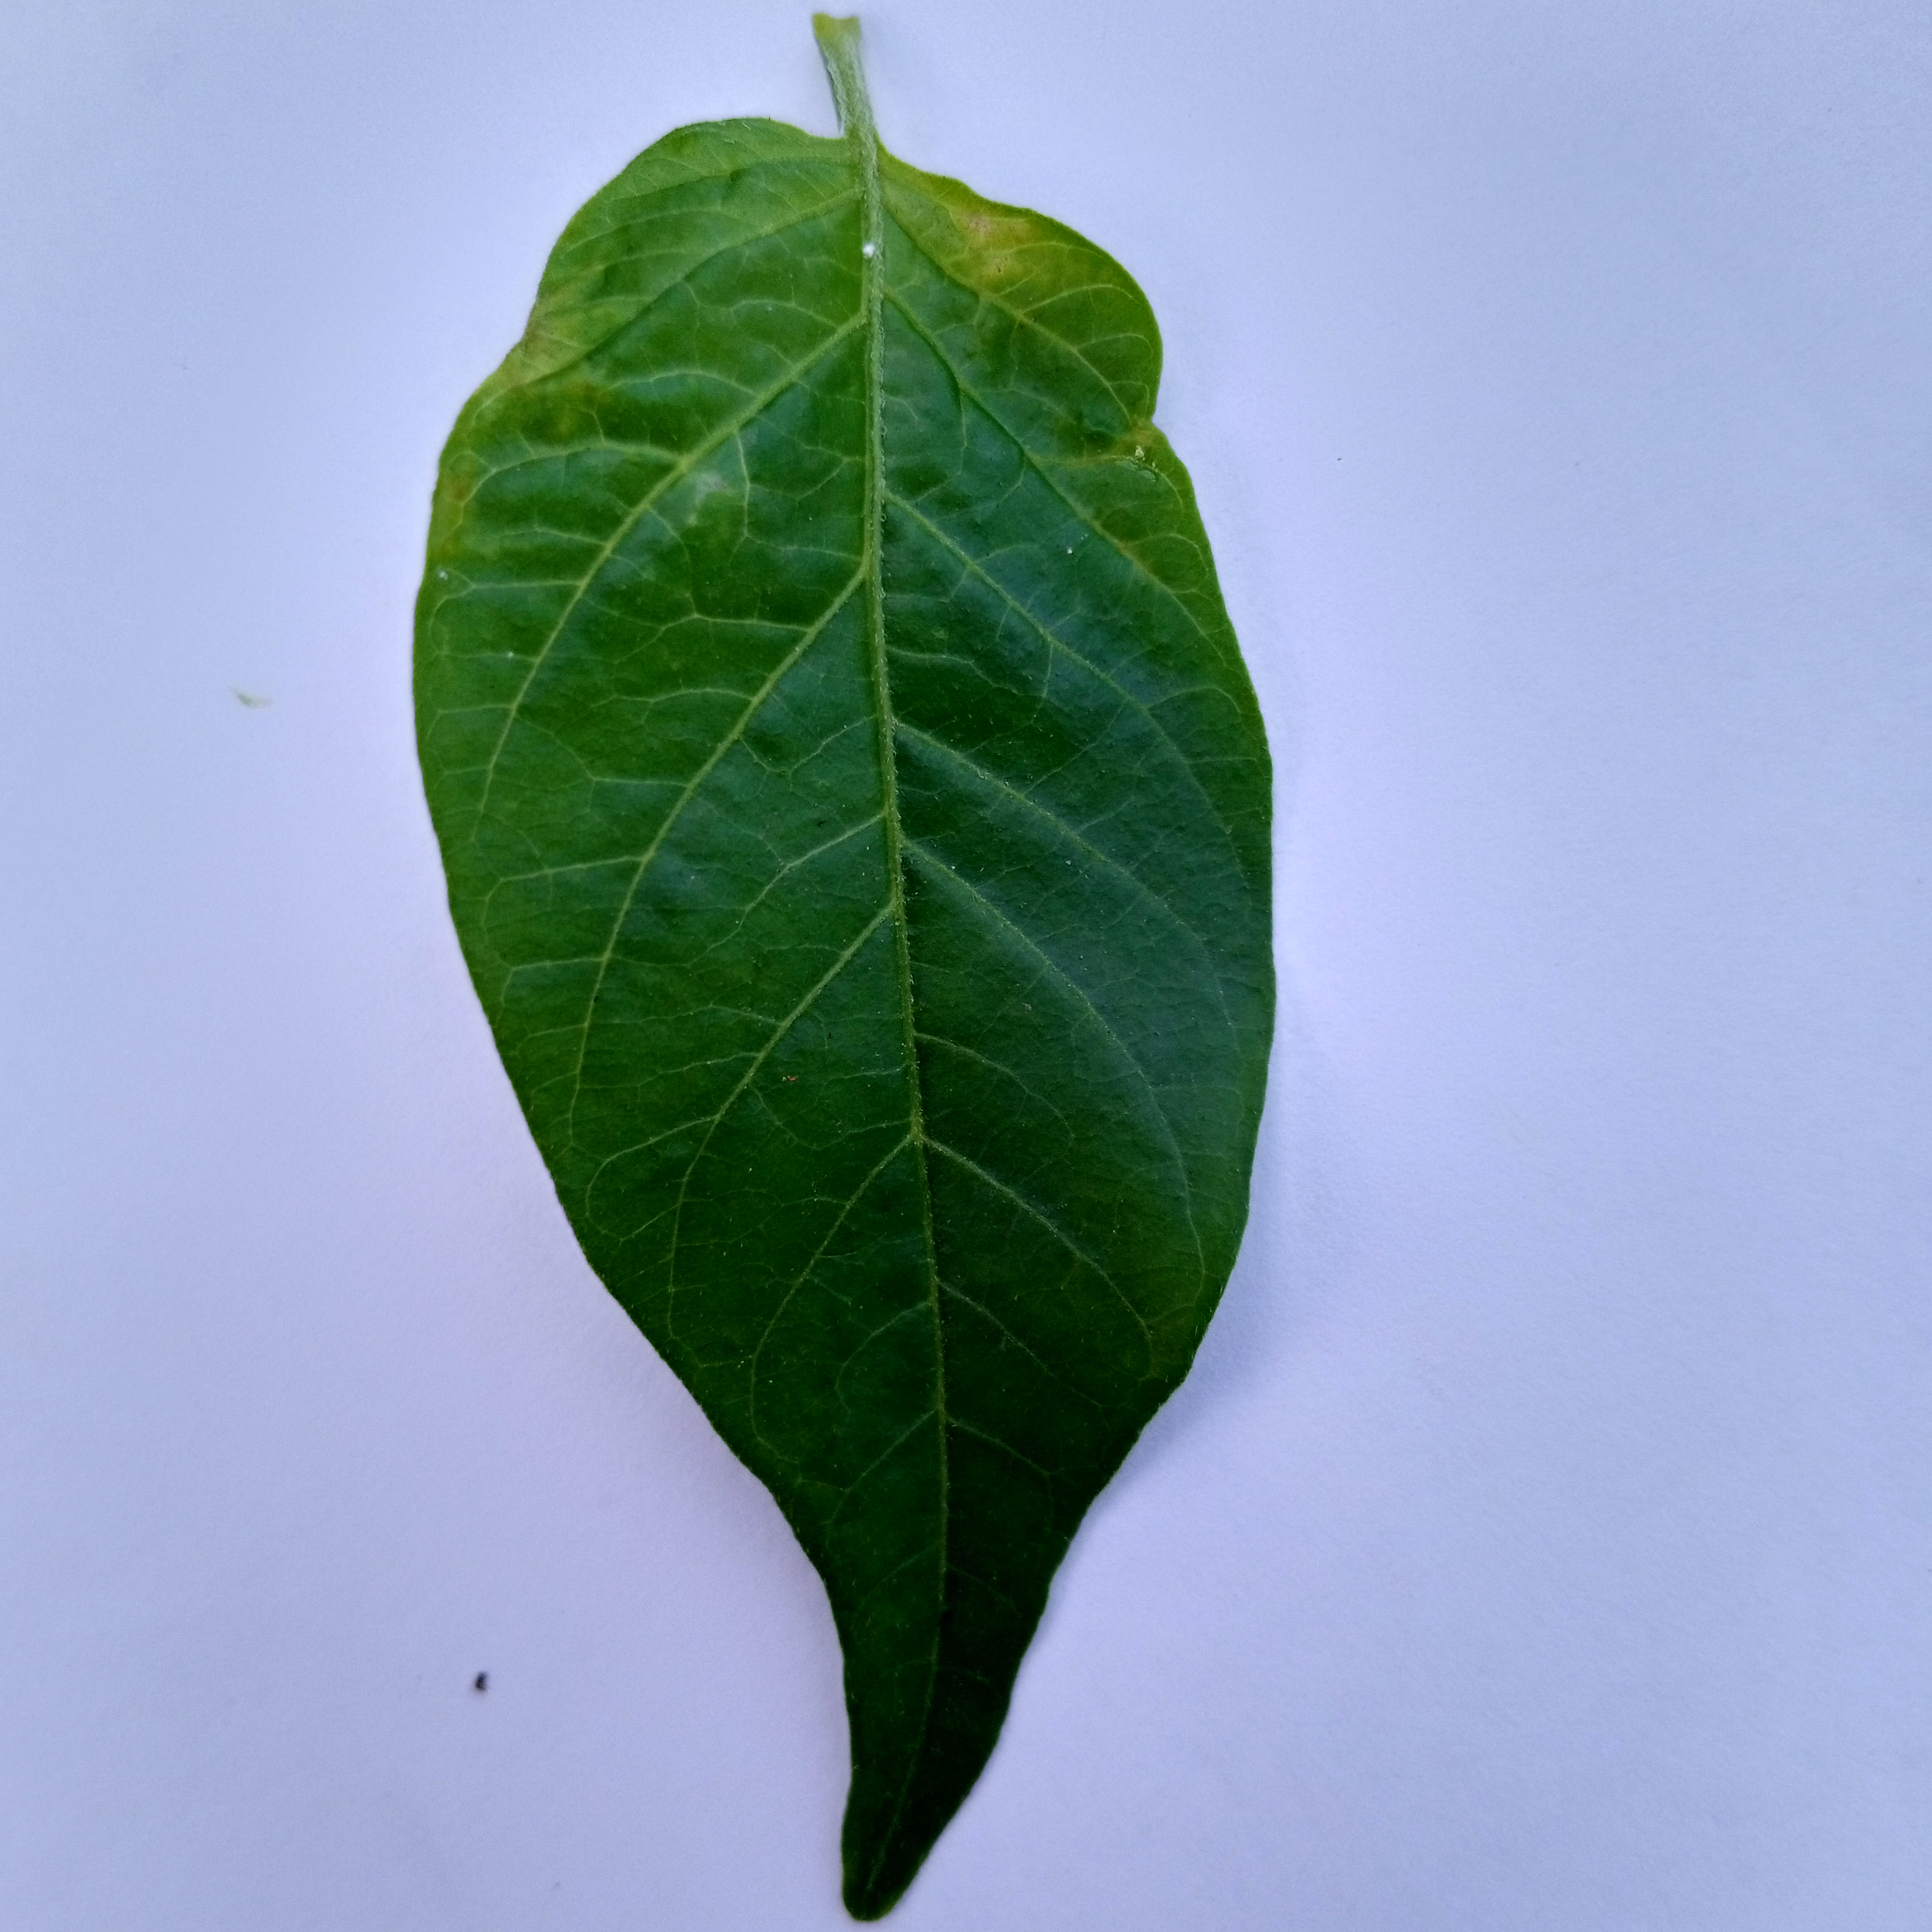Leaf: (257, 97, 1437, 1930)
